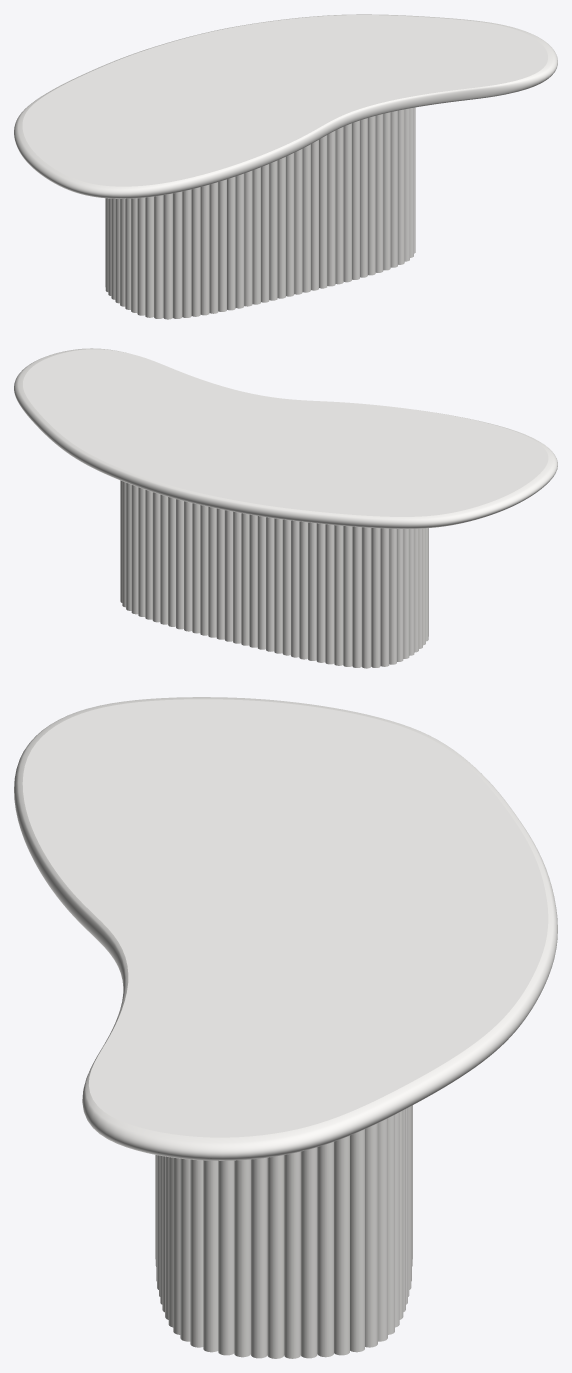
Rendered from purewhite_leaf1_round_newtable.glb.
3 renders of one model, top to bottom at view 1: azimuth 30°, elevation 25°; view 2: azimuth 150°, elevation 25°; view 3: azimuth 270°, elevation 25°, orthographic. The views are drawn at different scales.
Parts seen in each view (by area): view 1: round_leaf1, newtable; view 2: round_leaf1, newtable; view 3: round_leaf1, newtable.
Boxes of the visible parts, left/top/right/bottom form: round_leaf1: left=14, top=14, right=557, bottom=198; newtable: left=105, top=107, right=415, bottom=319; round_leaf1: left=14, top=348, right=557, bottom=528; newtable: left=120, top=480, right=428, bottom=668; round_leaf1: left=14, top=697, right=557, bottom=1160; newtable: left=155, top=1105, right=412, bottom=1358.
Bounding box in the file's own units: 7.5 × 2.51 × 3.8.
2 materials, 2 textured.
